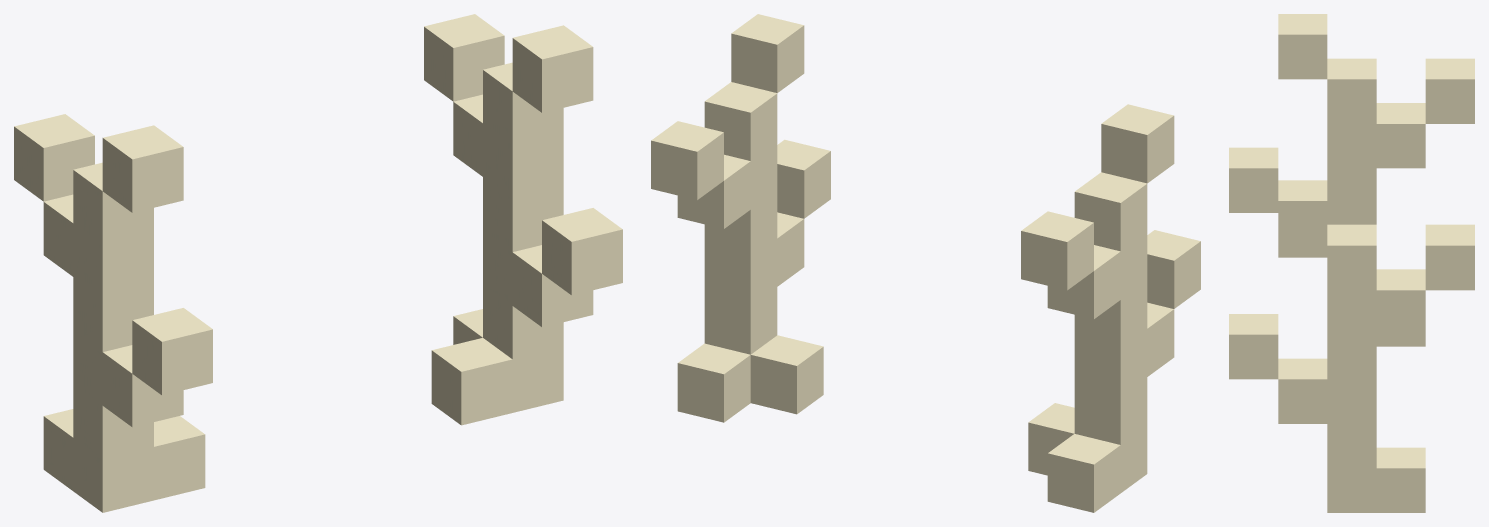
Rendered from accessories_head_antlers.glb.
The picture shows the model from 3 angles, left to right: view 1: azimuth 30°, elevation 25°; view 2: azimuth 150°, elevation 25°; view 3: azimuth 270°, elevation 25°; orthographic projection. The views are drawn at different scales.
Parts seen in each view (by area): view 1: model_0; view 2: model_0; view 3: model_0.
Part boxes in pixels (bbox=[...]): model_0: bbox=[14, 14, 622, 512]; model_0: bbox=[651, 14, 1200, 512]; model_0: bbox=[1229, 14, 1474, 512].
Size of the model in its own units: 9 by 7 by 5.
